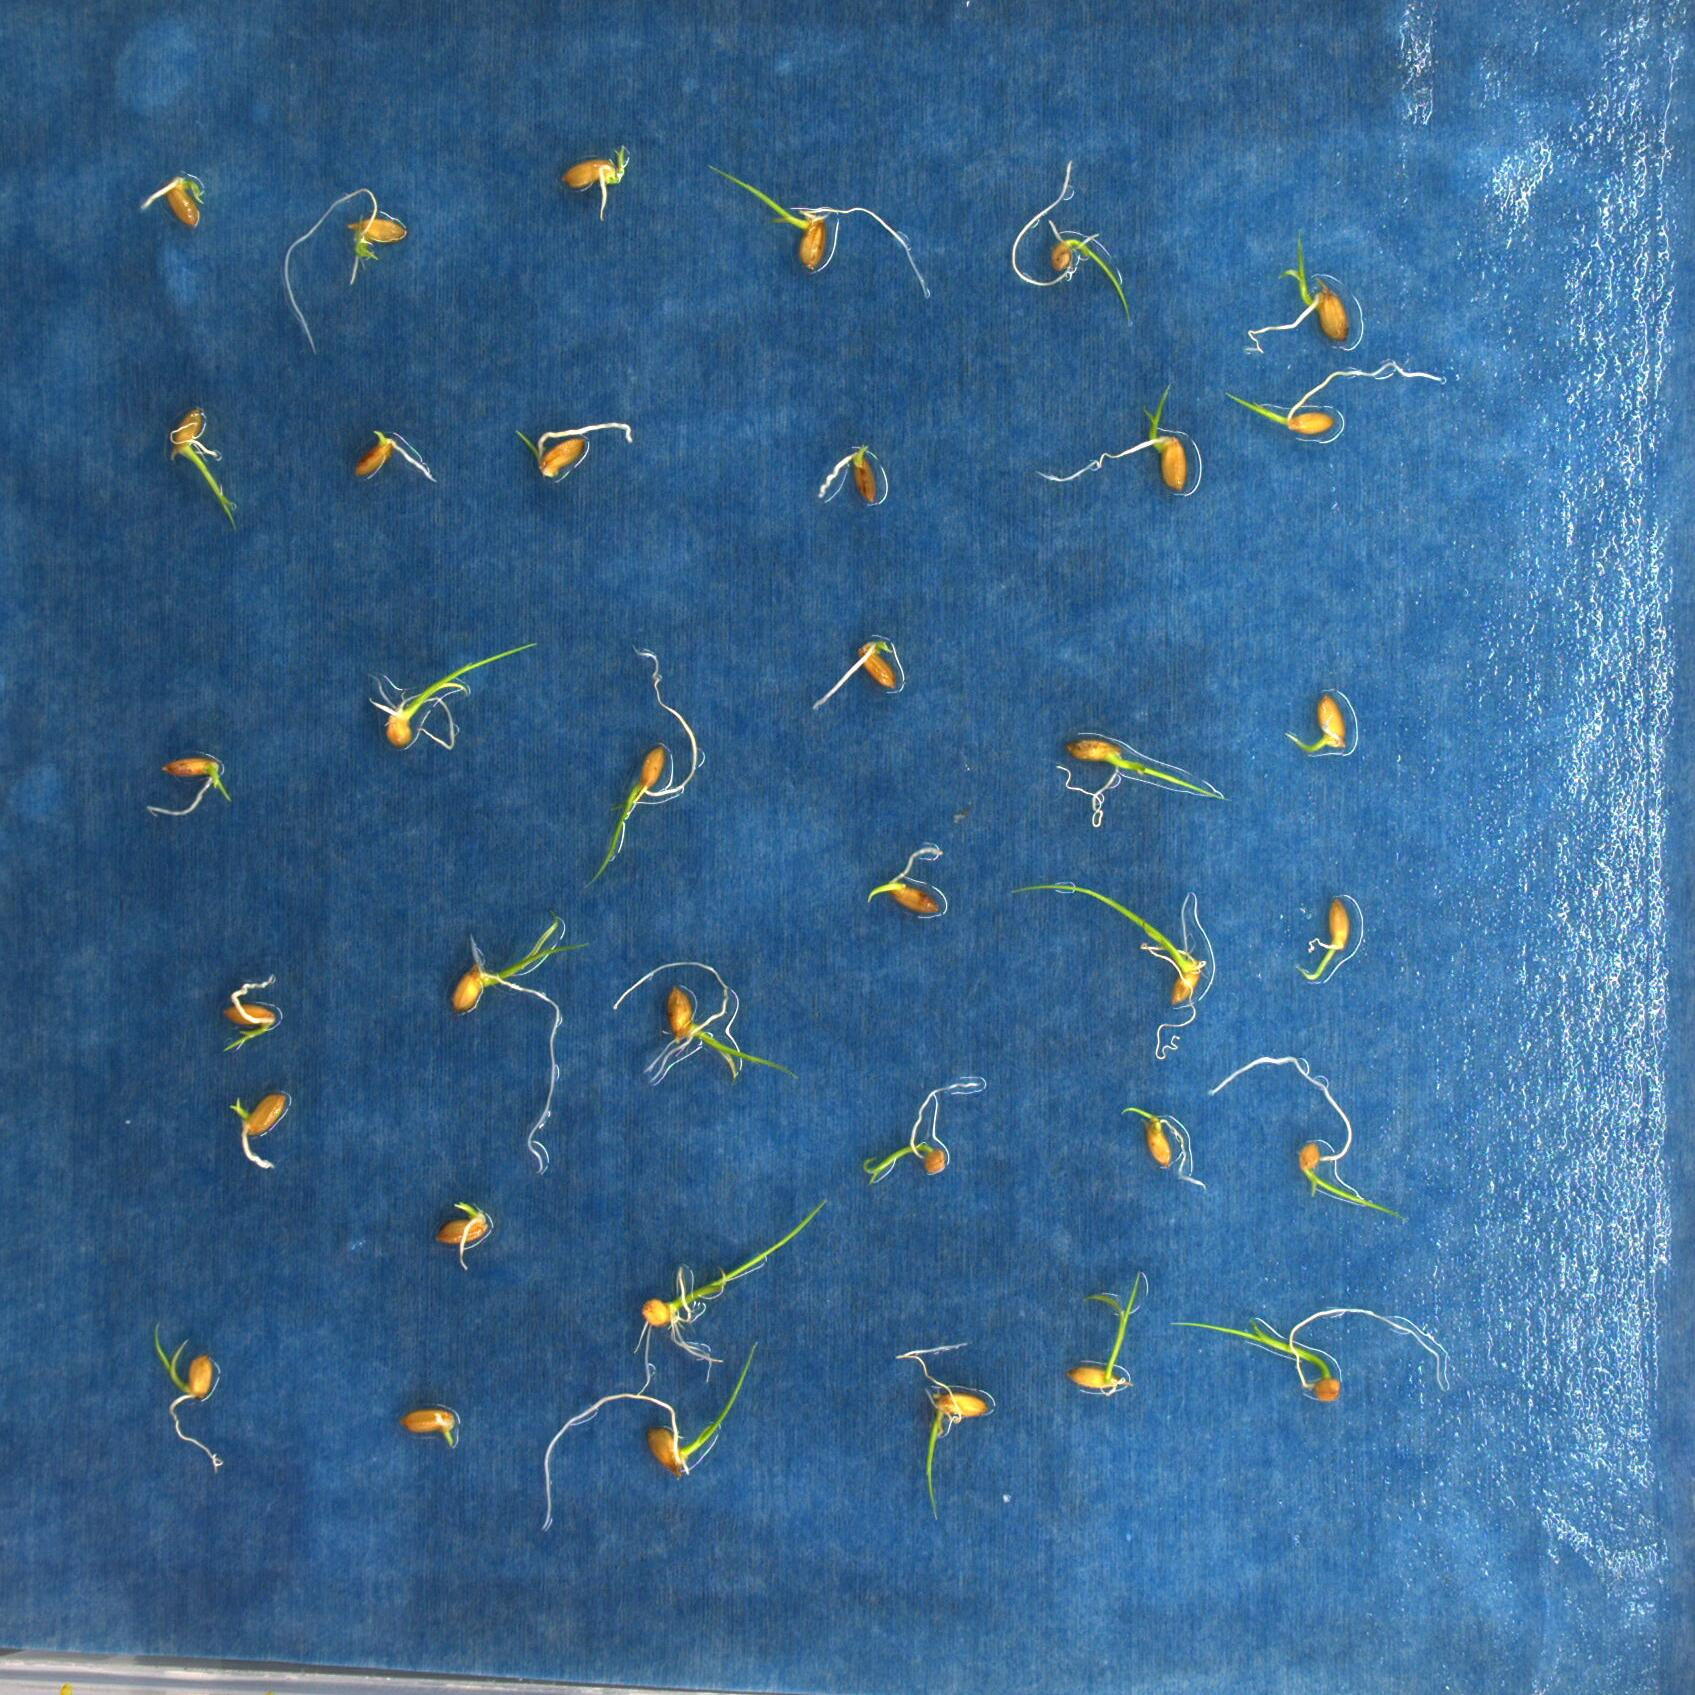not sprout: (231, 1088, 295, 1173), (352, 428, 435, 484), (816, 442, 883, 501), (399, 1406, 459, 1448)
sprout: (539, 1340, 764, 1535), (636, 1198, 826, 1395), (452, 910, 593, 1173), (1009, 883, 1209, 1060), (1215, 1055, 1408, 1225), (705, 161, 931, 296), (1167, 1305, 1447, 1406), (587, 646, 698, 888), (612, 959, 799, 1079), (281, 186, 408, 355), (1012, 157, 1135, 324), (896, 1341, 997, 1524), (366, 641, 539, 748), (1226, 362, 1447, 438), (1035, 383, 1189, 490), (1055, 736, 1225, 829), (1240, 231, 1352, 357), (863, 1080, 987, 1187), (152, 1319, 224, 1471), (1065, 1271, 1144, 1391), (169, 407, 239, 532), (1121, 1105, 1208, 1191), (515, 418, 632, 477), (812, 638, 900, 716), (147, 754, 230, 821), (868, 849, 944, 917), (219, 973, 281, 1055), (563, 147, 629, 224), (1284, 689, 1350, 759), (1296, 896, 1349, 983), (436, 1200, 492, 1271), (140, 172, 208, 228)
